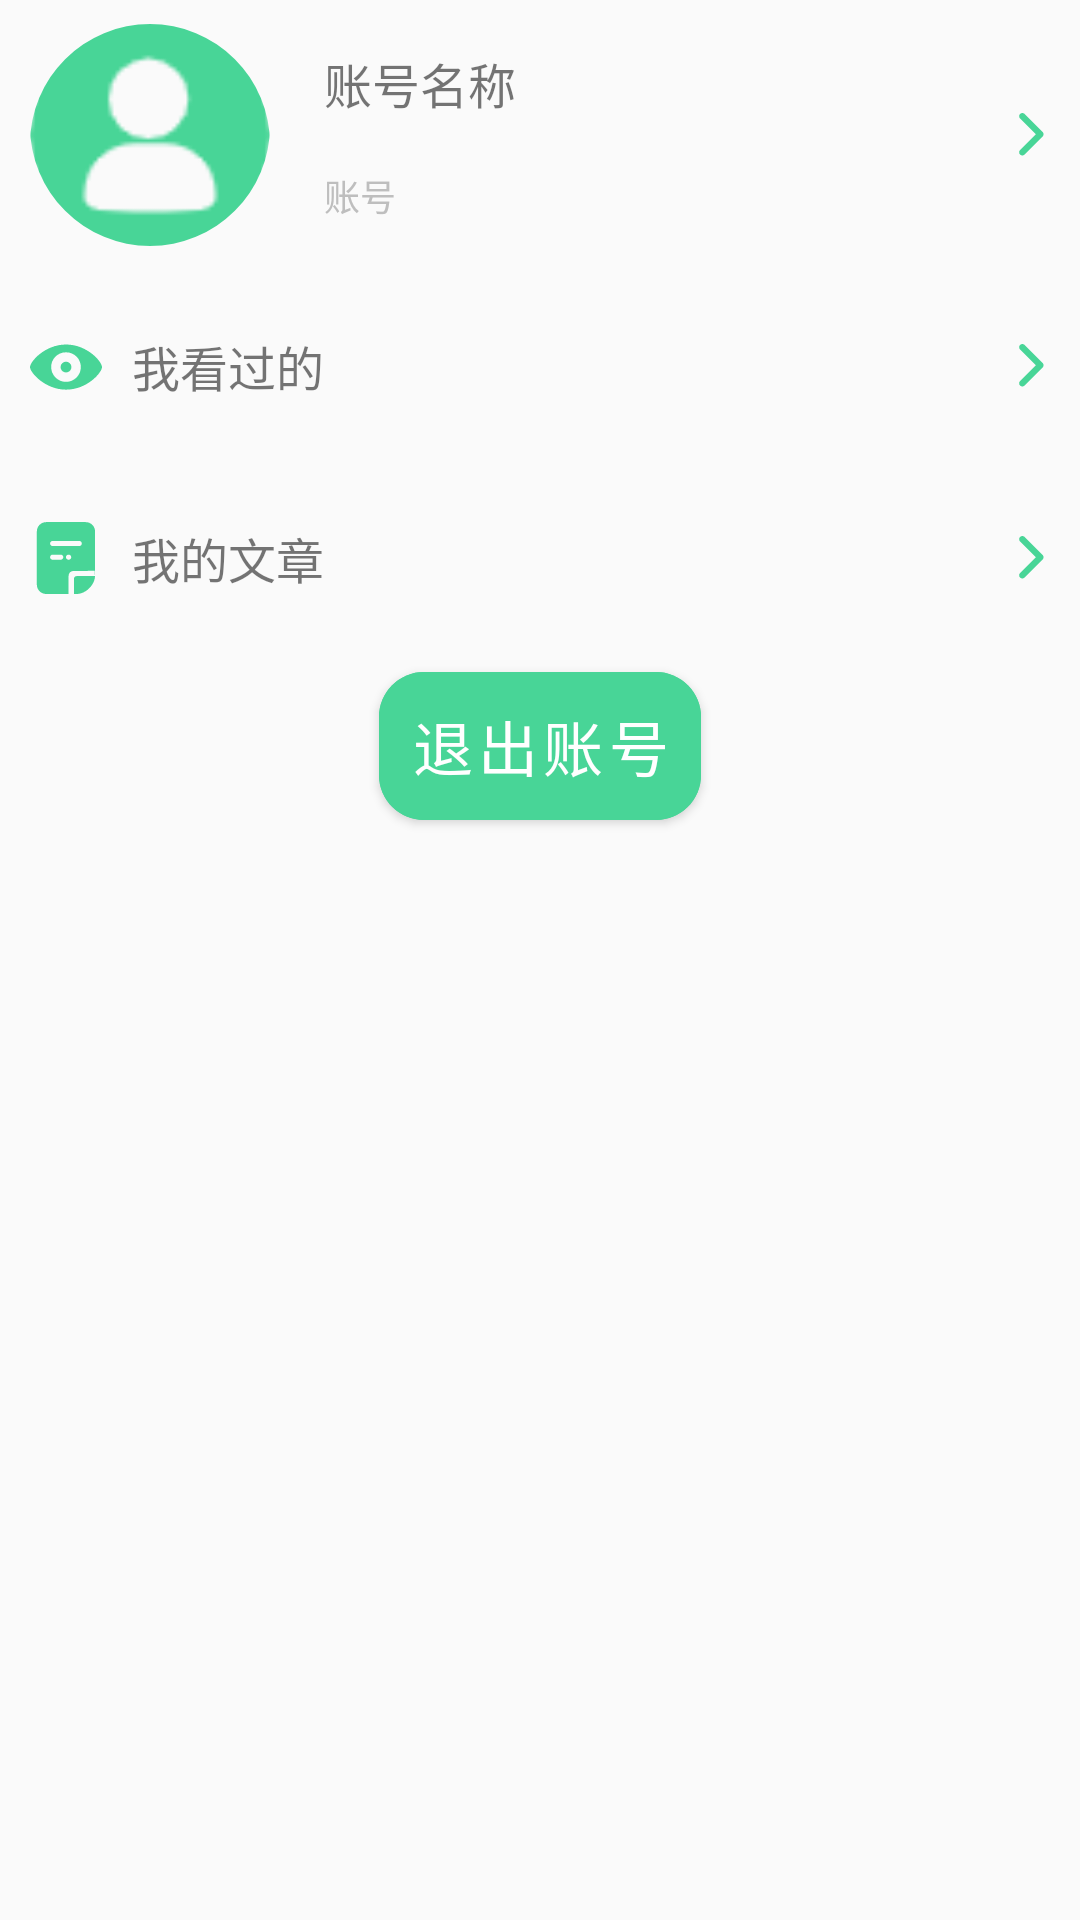

Point at icon controls on the screen. Image size 1080 x 1920, points as (x,y).
article: (65,558)
eye: (66,367)
head: (150,135)
